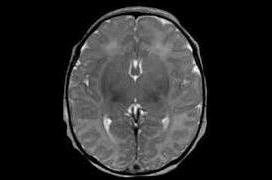Normal_Brain: (53, 3, 262, 180)
